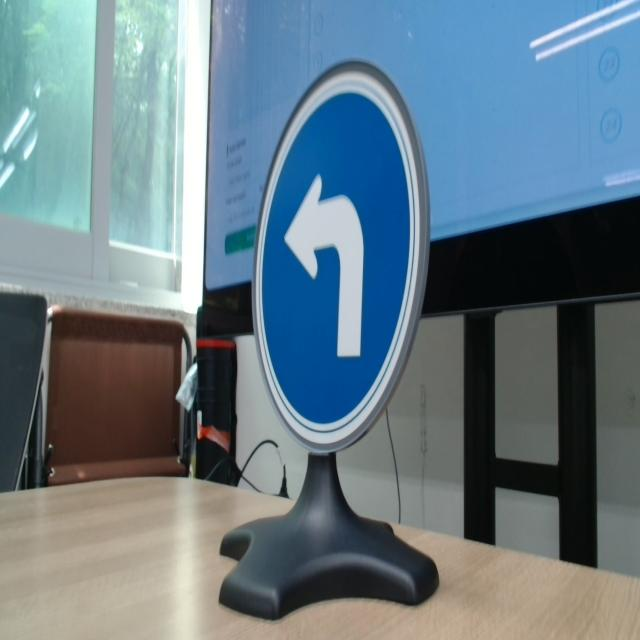left_direction: (232, 49, 446, 477)
